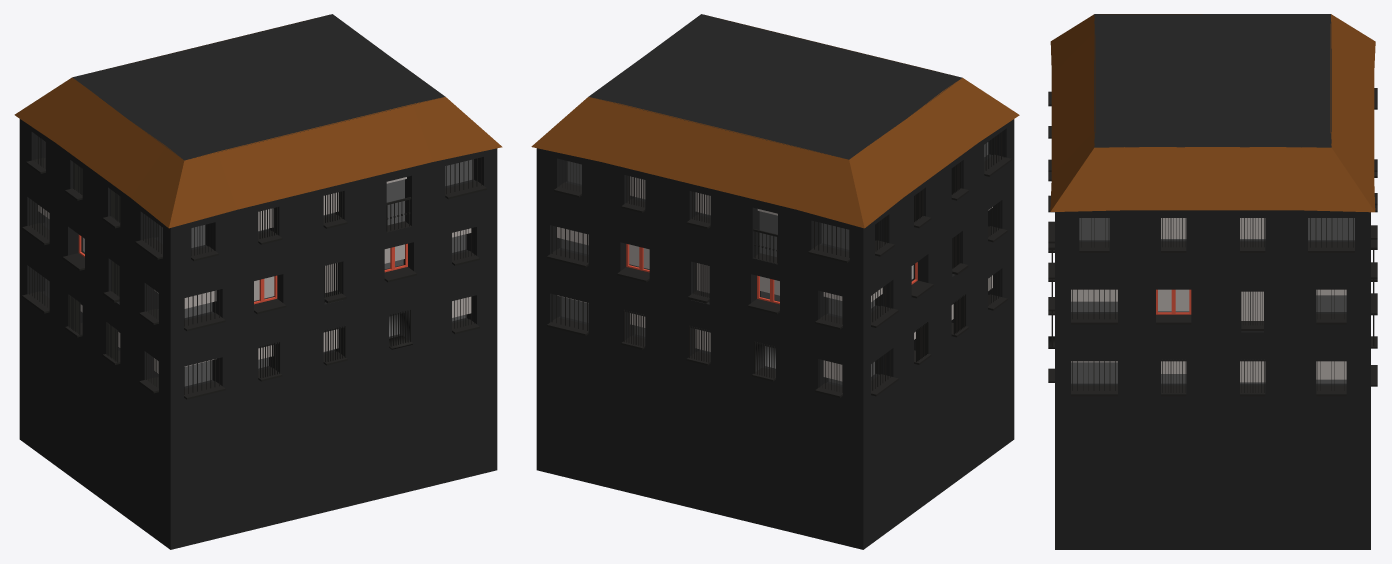
File: casa procedural_relleno_Con sotano_7.fbx
3 views of the same model, side by side, from view 1: azimuth 30°, elevation 25°; view 2: azimuth 150°, elevation 25°; view 3: azimuth 270°, elevation 25° (orthographic). The views are drawn at different scales.
Parts seen in each view (by area): view 1: Procedural_Building_straight.007; view 2: Procedural_Building_straight.007; view 3: Procedural_Building_straight.007.
Part boxes in pixels (bbox=[...]): Procedural_Building_straight.007: bbox=[14, 14, 502, 549]; Procedural_Building_straight.007: bbox=[531, 14, 1019, 549]; Procedural_Building_straight.007: bbox=[1048, 14, 1377, 549].
Bounding box in the file's own units: 516 × 538 × 416.
